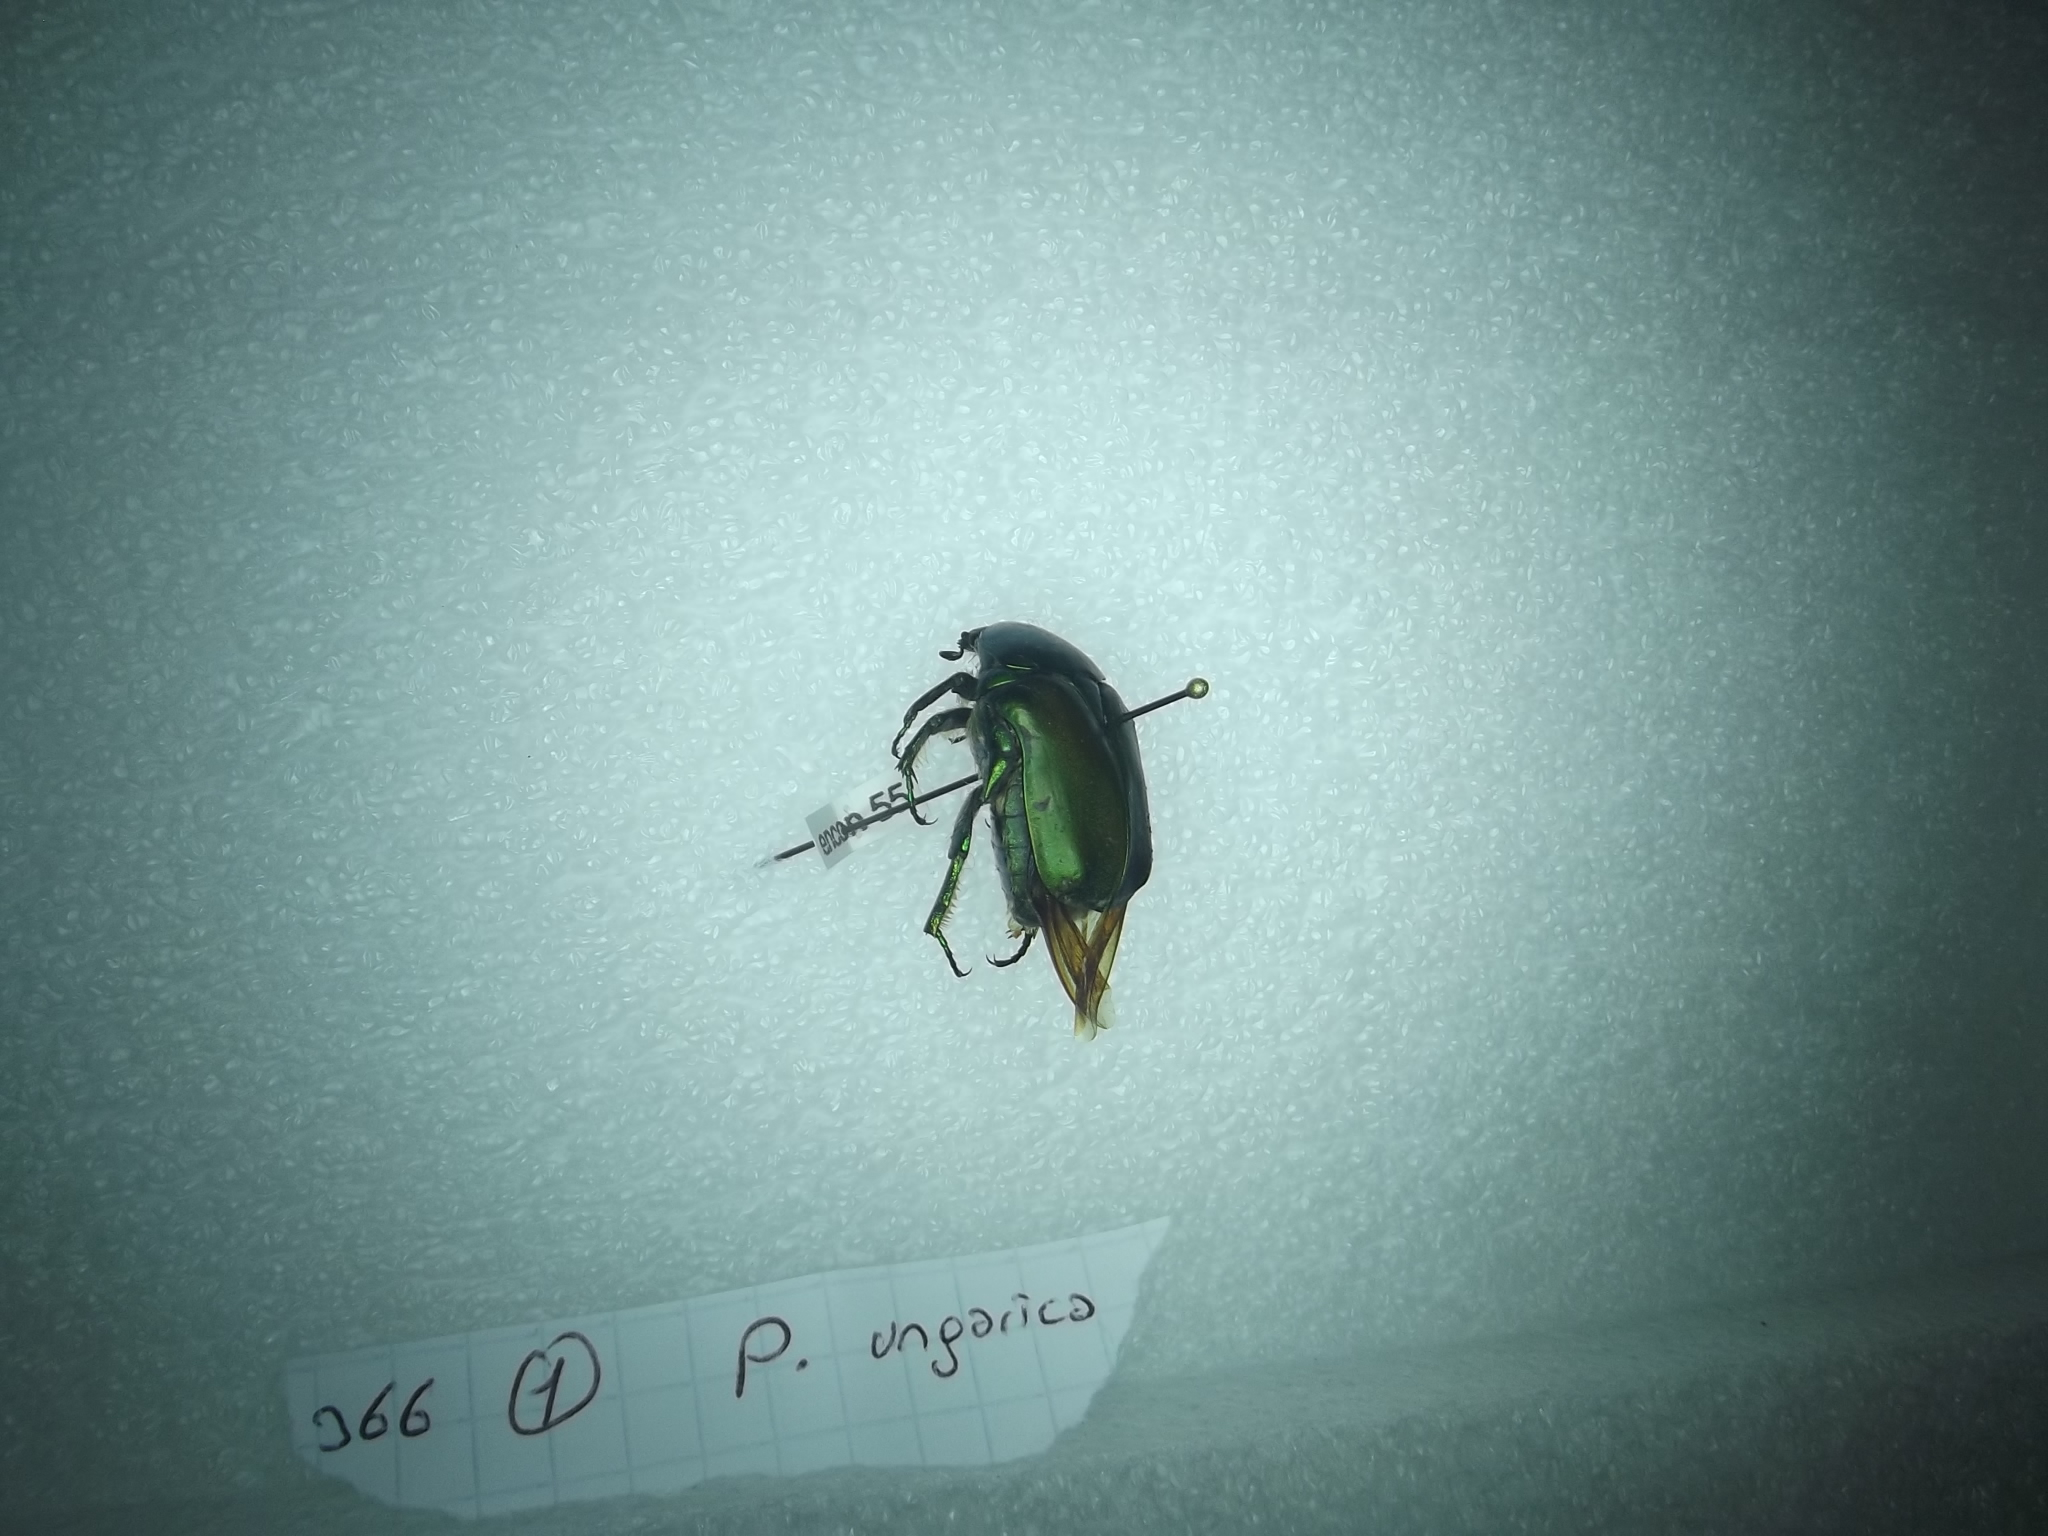Protaetia_ungarica_americana: (884, 591, 1164, 1054)
